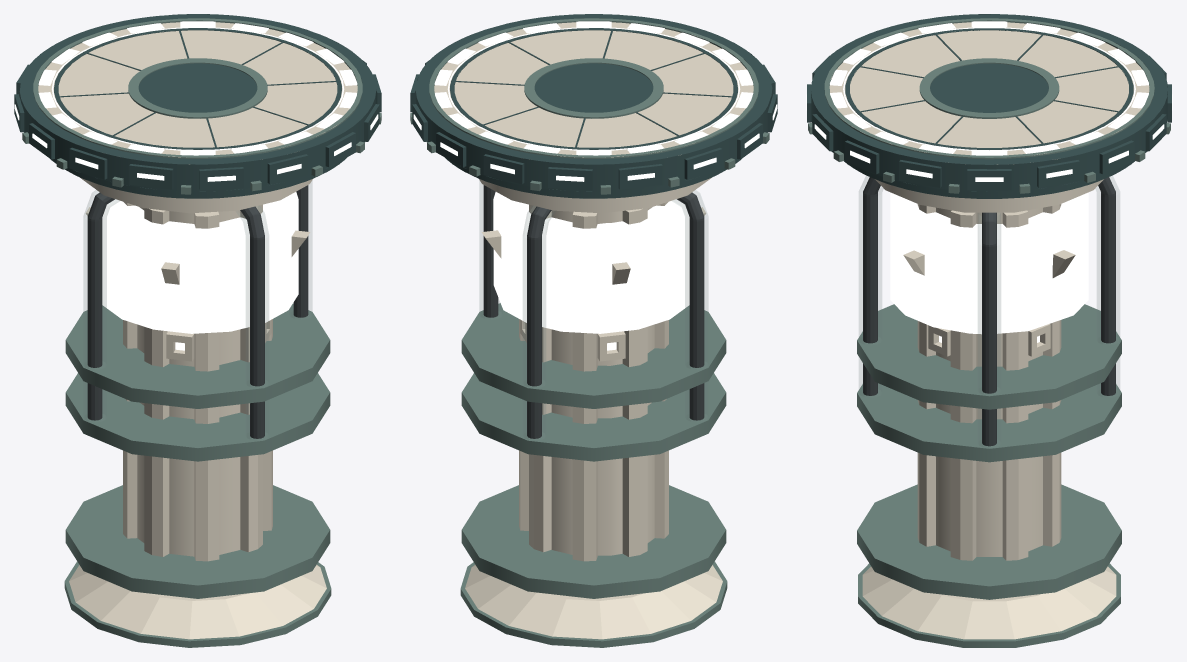
Rendered from Platform_Relay_v3_D18_lab.glb.
The picture shows the model from 3 angles, left to right: view 1: azimuth 30°, elevation 25°; view 2: azimuth 150°, elevation 25°; view 3: azimuth 270°, elevation 25°; orthographic projection.
Visible parts, largest first — view 1: Platform_Relay_v3_D18; view 2: Platform_Relay_v3_D18; view 3: Platform_Relay_v3_D18.
Boxes of the visible parts, x1,y1,x2,y2 form: Platform_Relay_v3_D18: [14, 14, 381, 647]; Platform_Relay_v3_D18: [410, 14, 777, 647]; Platform_Relay_v3_D18: [806, 14, 1172, 647].
Bounding box in the file's own units: 12.32 × 18.71 × 12.32.
